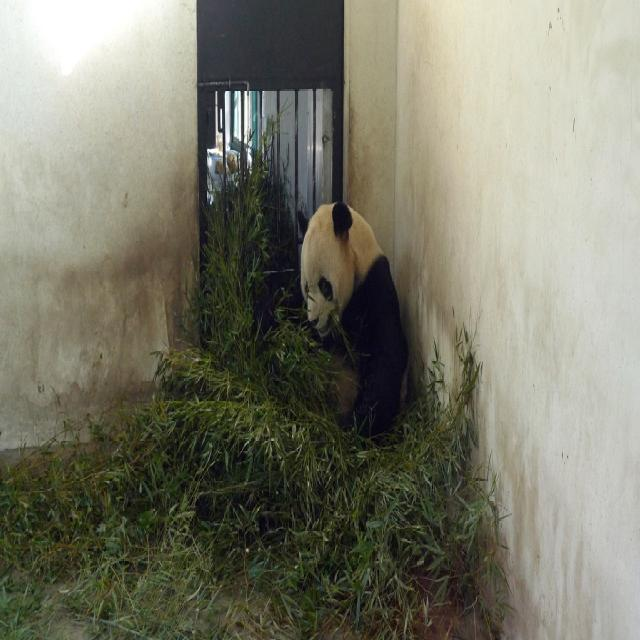panda: (299, 196, 406, 448)
